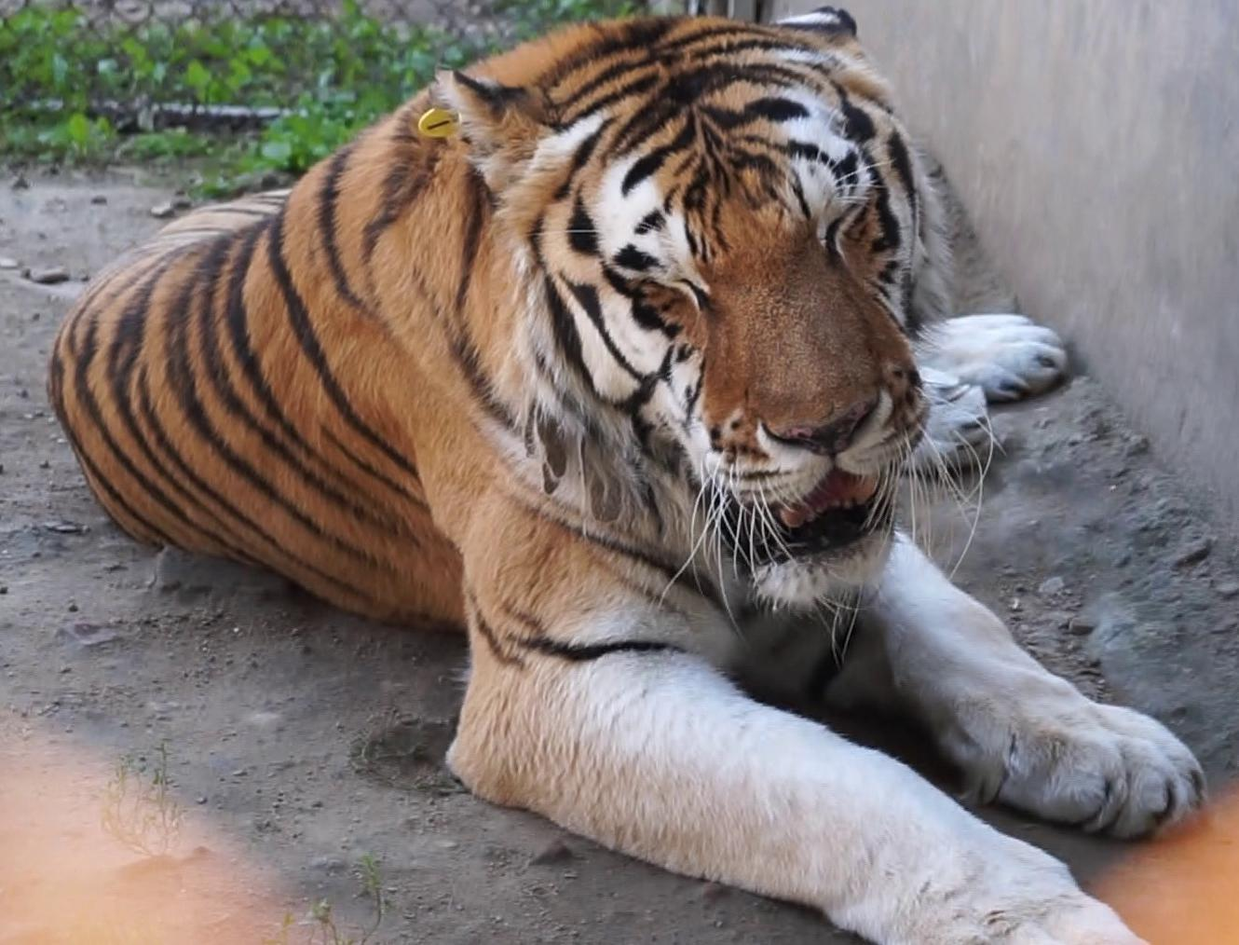tiger: (48, 8, 1204, 944)
